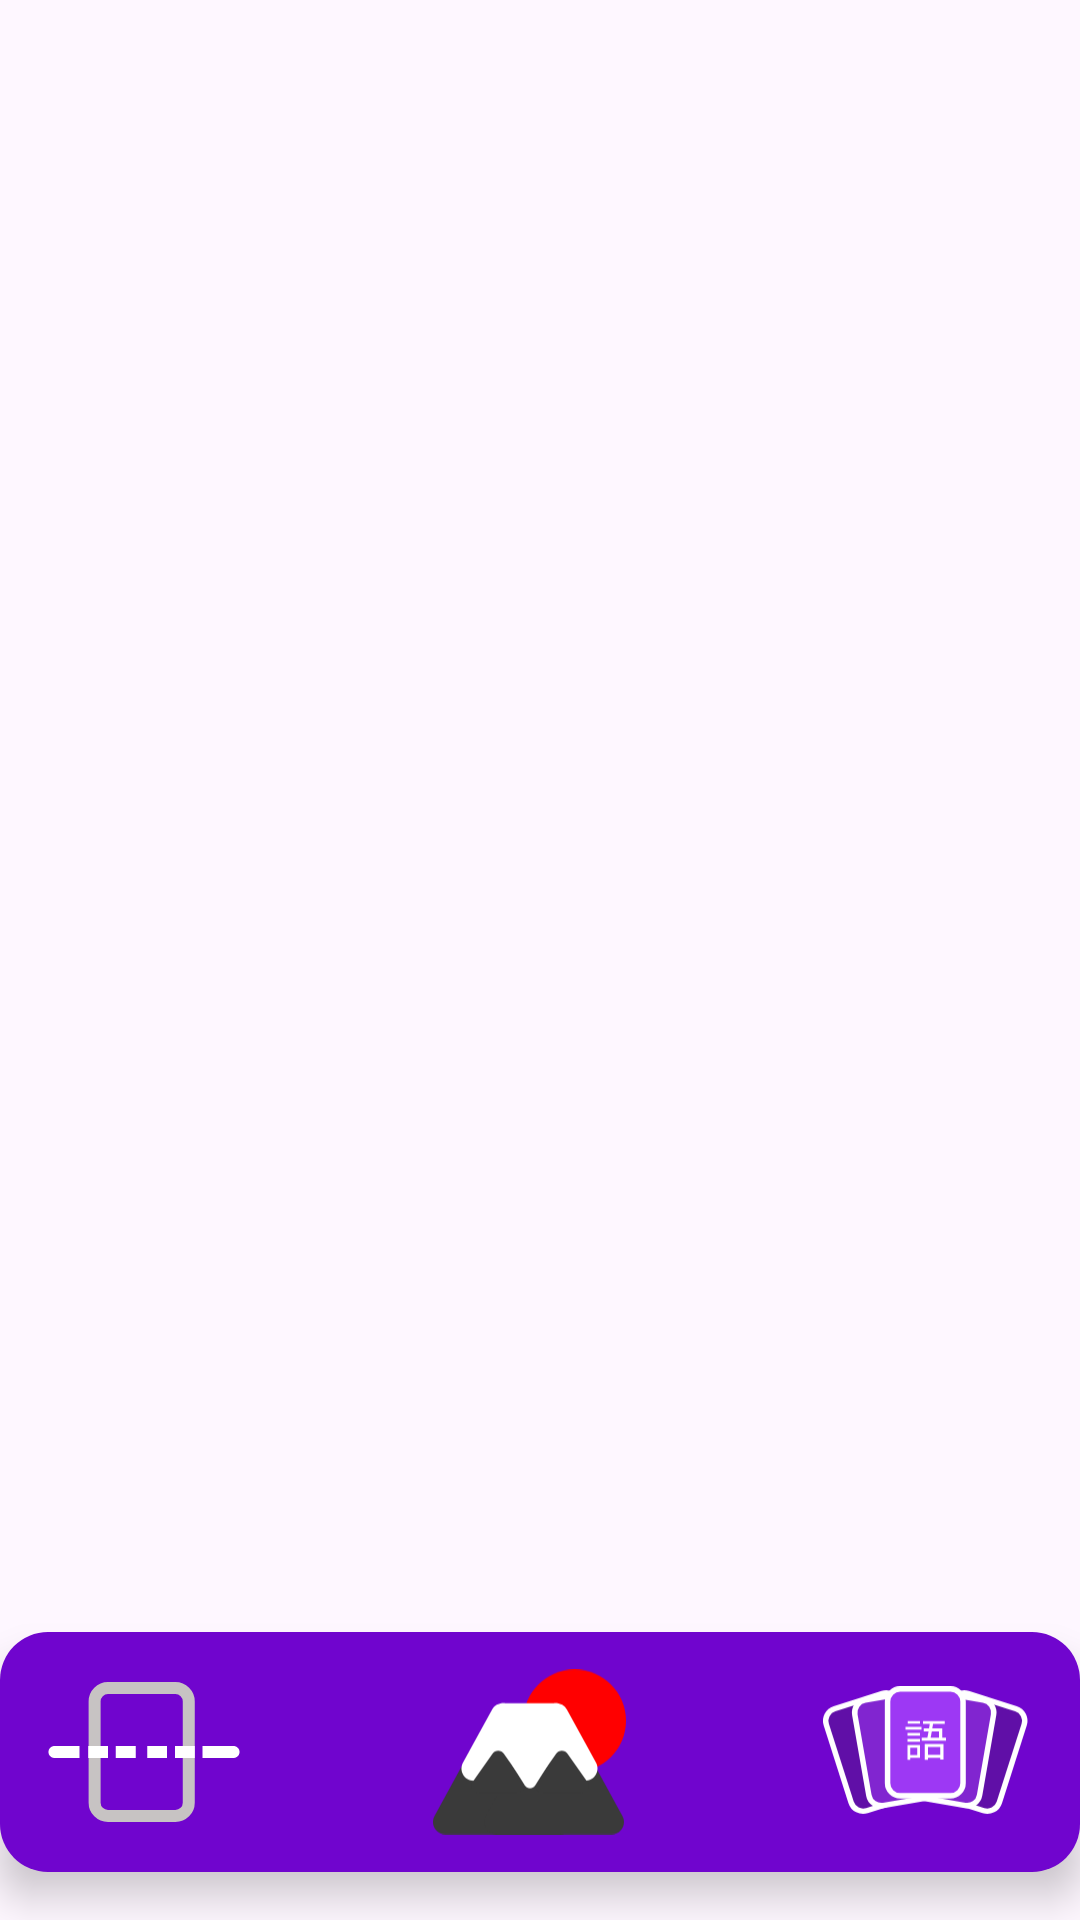

Where icons sit on this 1080px×1920px app screen, as detection(x1, y1, x2, y2):
decks: detection(823, 1686, 1028, 1814)
scan: detection(48, 1682, 240, 1822)
